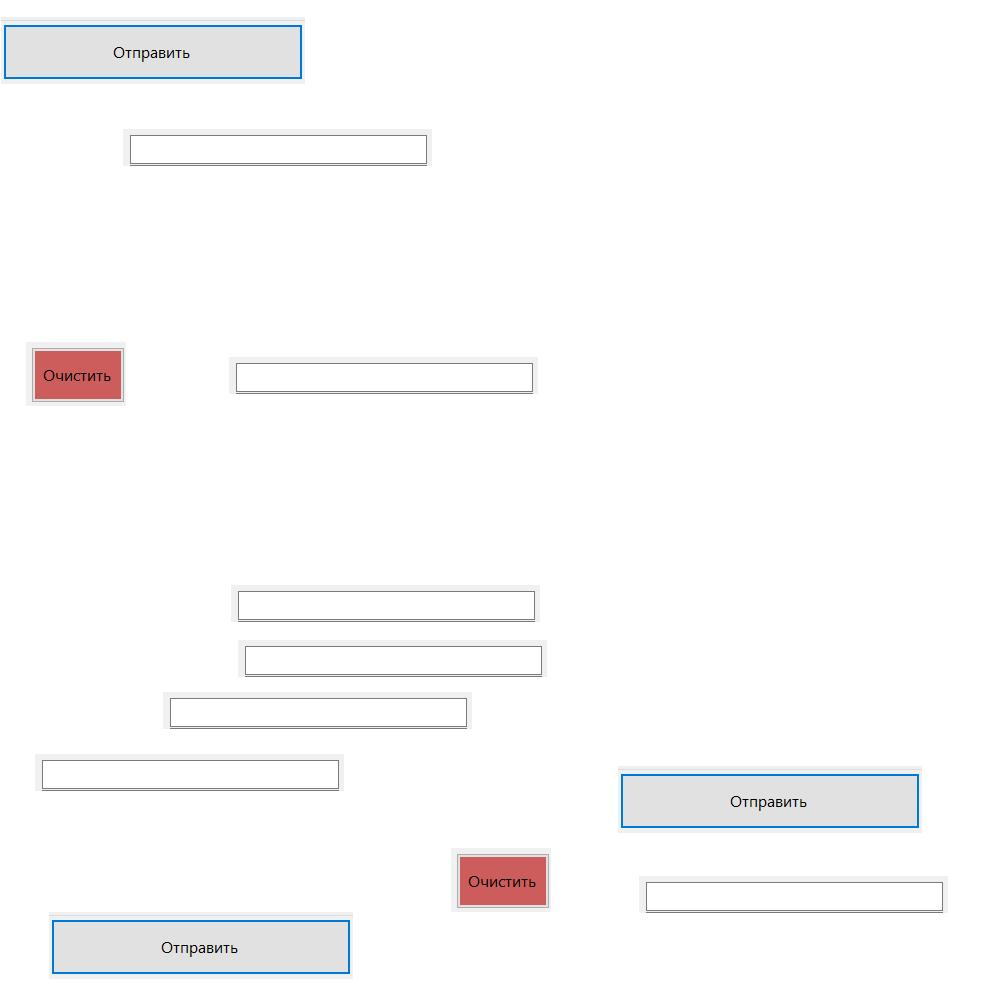Button: (1, 17, 305, 84), (618, 766, 922, 833), (49, 912, 353, 979), (26, 342, 126, 406), (451, 848, 551, 912)
EditText-: (123, 129, 432, 166), (238, 640, 547, 677), (229, 357, 538, 394), (231, 585, 540, 622), (35, 754, 344, 791), (163, 692, 472, 729), (639, 876, 948, 913)
